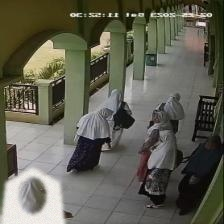Mukena: (0, 167, 65, 224)
